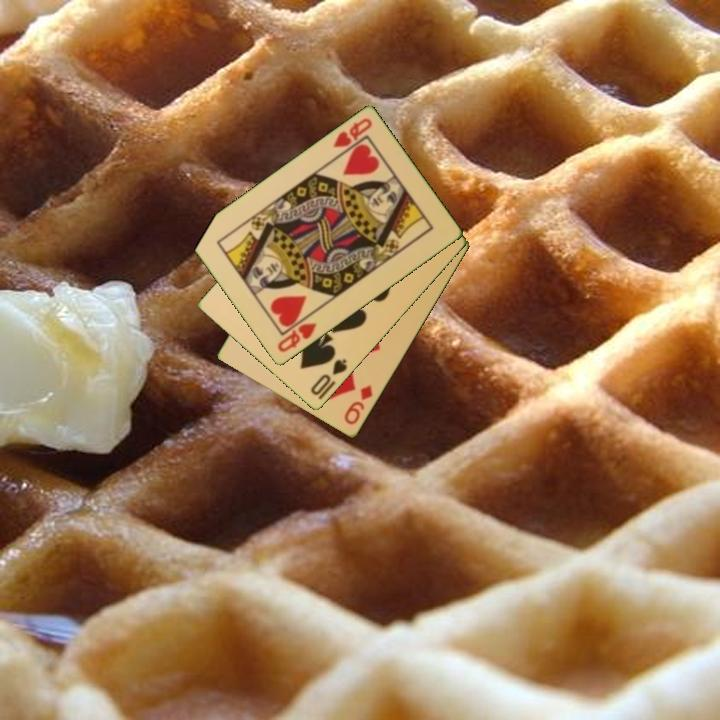10s: (307, 356, 350, 399)
9d: (340, 382, 376, 428)
Qh: (274, 319, 320, 356), (329, 115, 375, 151)
